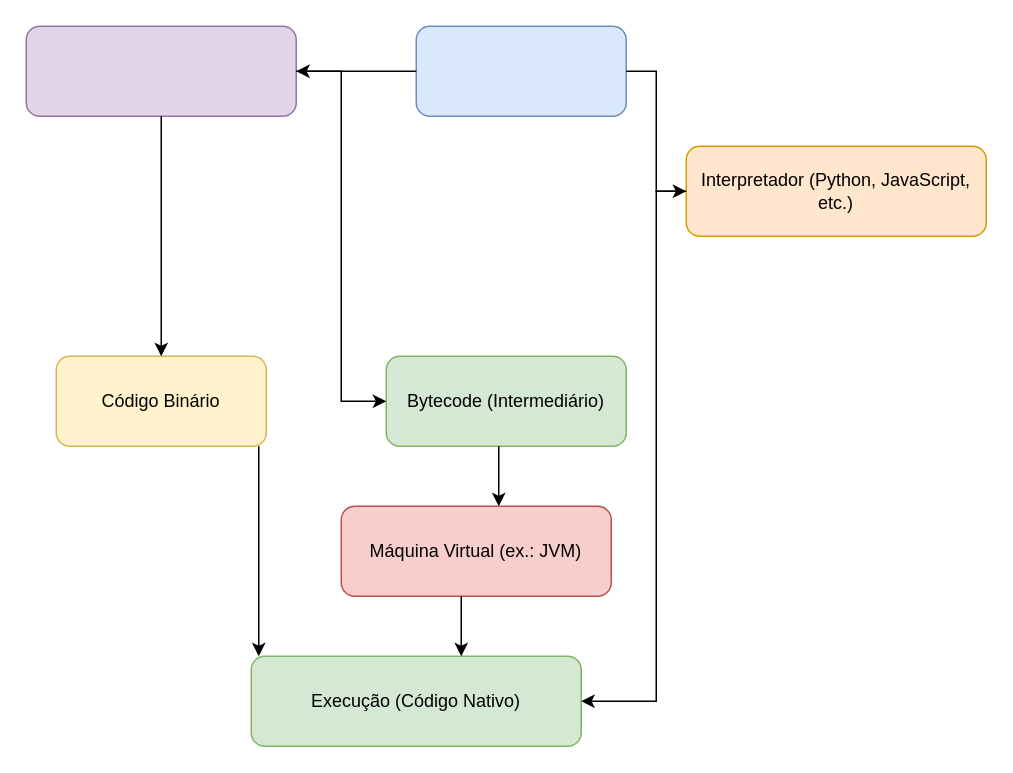
Some shapes in this 1013 by 773 pixel diagram are drawn without their labels. Each missing label, with the centre of its shape:
"Compilador (GCC, javac, etc.)" goes at point 160,70.
"Código Fonte" goes at point 520,70.
